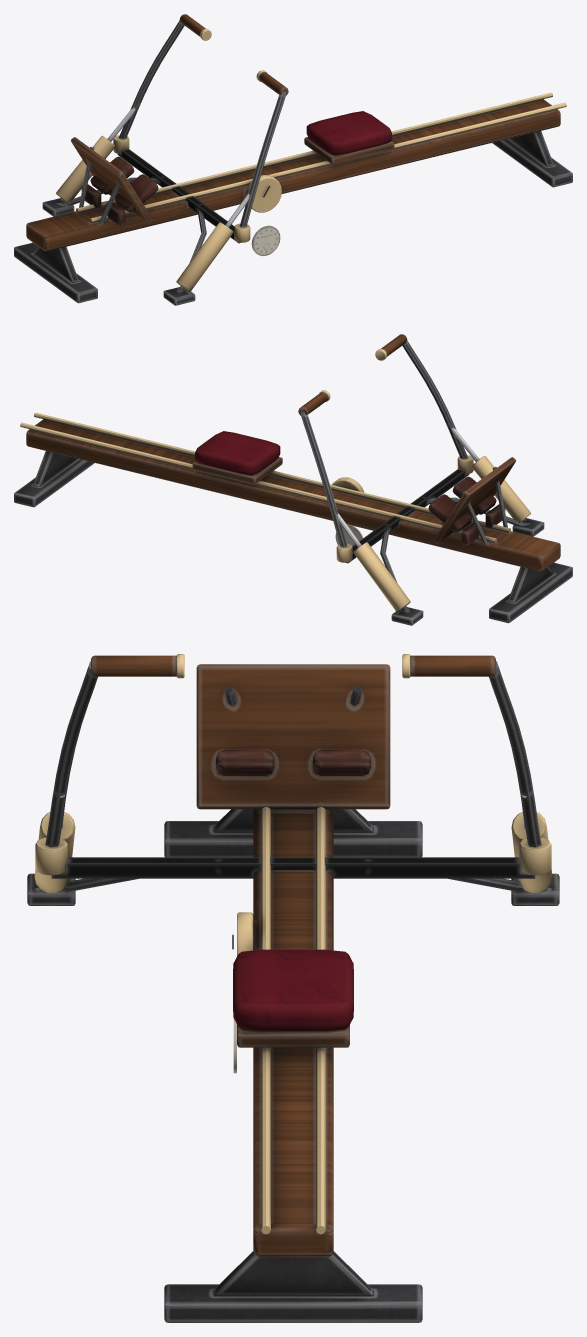
The model's file is RowingMachine.fbx.
3 views of the same model, one above another, from view 1: azimuth 30°, elevation 25°; view 2: azimuth 150°, elevation 25°; view 3: azimuth 270°, elevation 25° (orthographic). The views are drawn at different scales.
Parts seen in each view (by area): view 1: RowingMachine; view 2: RowingMachine; view 3: RowingMachine.
Part boxes in pixels (x1=…): RowingMachine: x1=14, y1=14, x2=572, y2=305; RowingMachine: x1=14, y1=334, x2=572, y2=625; RowingMachine: x1=27, y1=654, x2=559, y2=1322.
Size of the model in its own units: 750 by 273 by 330.
